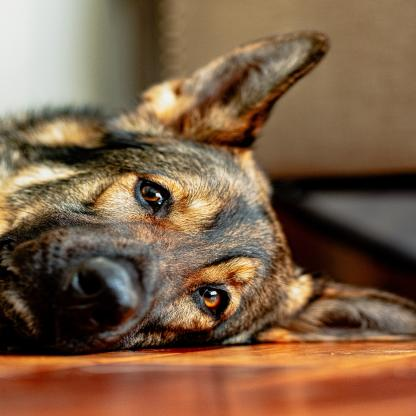dog: (1, 37, 414, 350)
